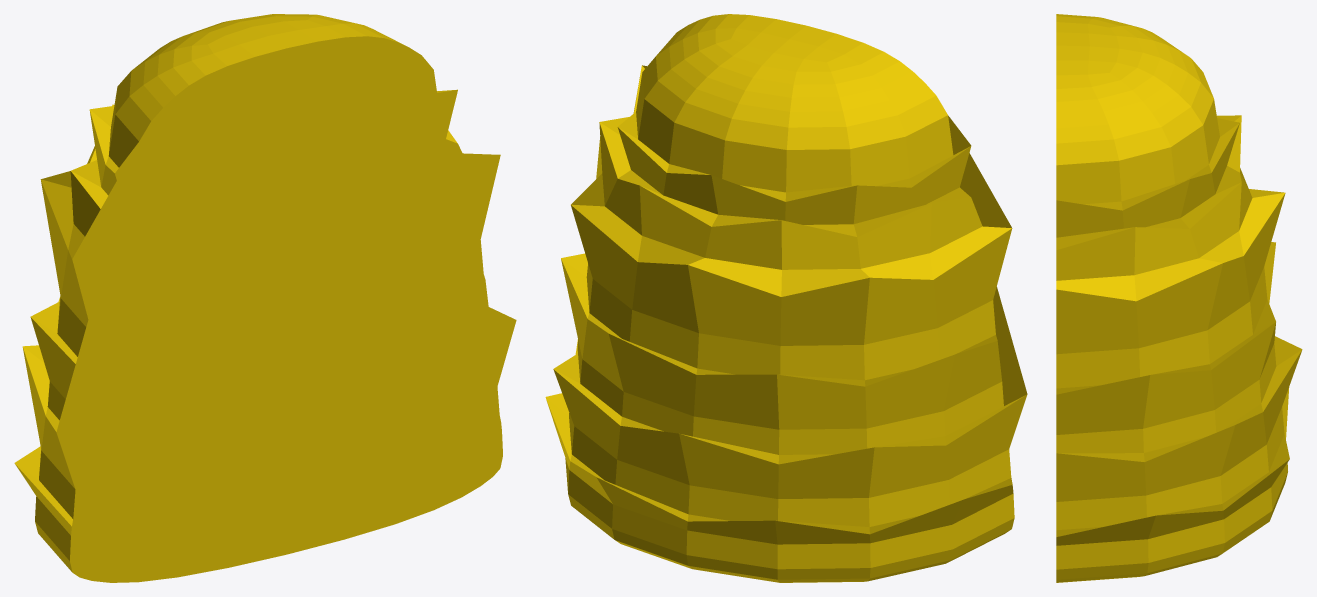
File: ananasMoitie.fbx
The picture shows the model from 3 angles, left to right: view 1: azimuth 30°, elevation 25°; view 2: azimuth 150°, elevation 25°; view 3: azimuth 270°, elevation 25°; orthographic projection. The views are drawn at different scales.
Parts seen in each view (by area): view 1: ananas2; view 2: ananas2; view 3: ananas2.
Part boxes in pixels (x1,y1,x2,y2): ananas2: (14, 14, 516, 582); ananas2: (545, 14, 1027, 582); ananas2: (1056, 14, 1302, 582).
Bounding box in the file's own units: 192 × 202 × 95.89.
